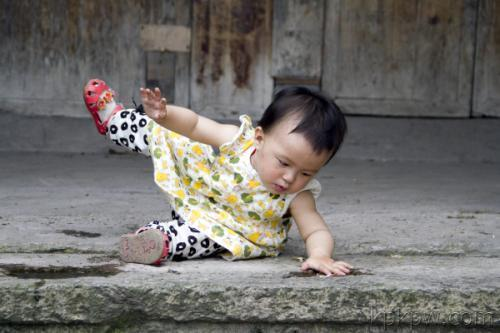Fall-Detected: (68, 62, 364, 276)
